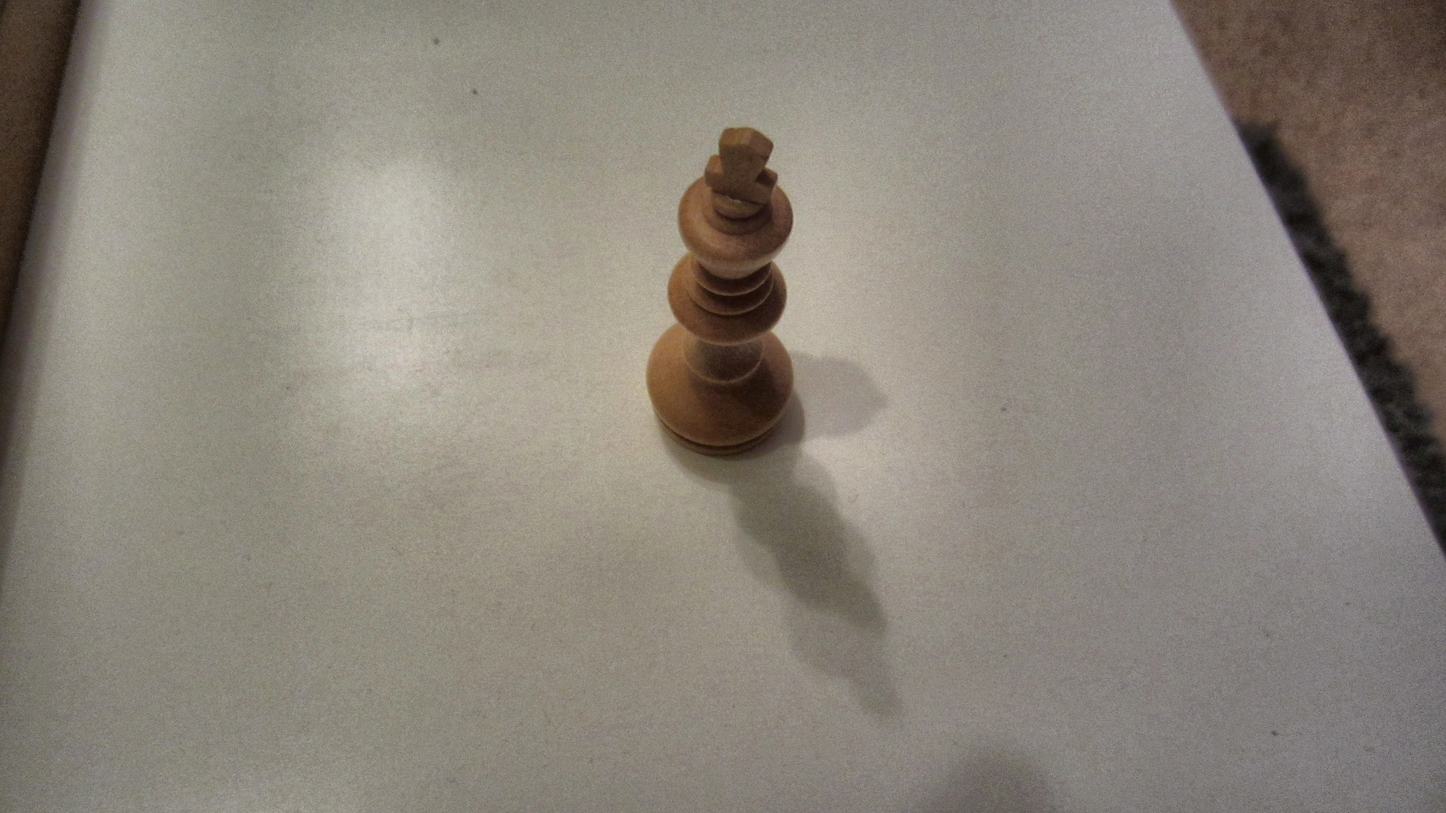white-king: (634, 117, 801, 459)
